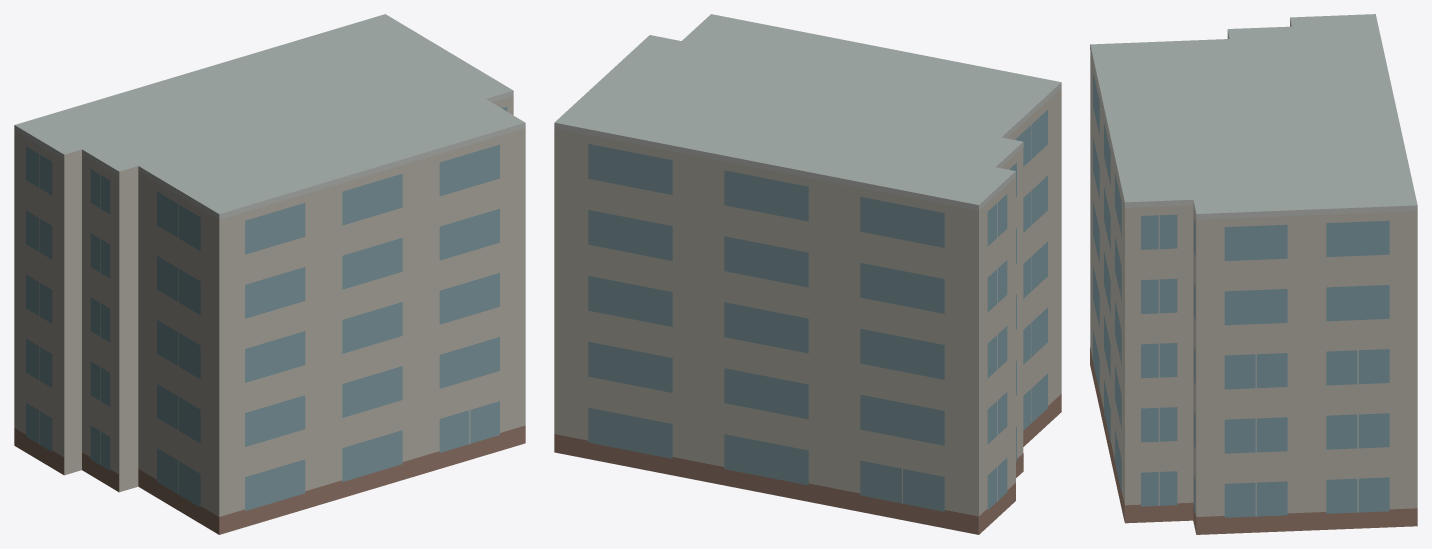
File: residential-67fd0a75-4861-404b-bd77-413d3bba6ae2.glb
3 views of the same model, side by side, from view 1: azimuth 30°, elevation 25°; view 2: azimuth 150°, elevation 25°; view 3: azimuth 270°, elevation 25° (orthographic). The views are drawn at different scales.
Parts seen in each view (by area): view 1: residential-67fd0a75-4861-404b-bd77-413d3bba6ae2.tmp; view 2: residential-67fd0a75-4861-404b-bd77-413d3bba6ae2.tmp; view 3: residential-67fd0a75-4861-404b-bd77-413d3bba6ae2.tmp.
Part boxes in pixels (bbox=[...]): residential-67fd0a75-4861-404b-bd77-413d3bba6ae2.tmp: bbox=[14, 14, 525, 534]; residential-67fd0a75-4861-404b-bd77-413d3bba6ae2.tmp: bbox=[554, 14, 1061, 534]; residential-67fd0a75-4861-404b-bd77-413d3bba6ae2.tmp: bbox=[1090, 14, 1417, 534].
Size of the model in its own units: 18.73 by 14 by 12.96.
